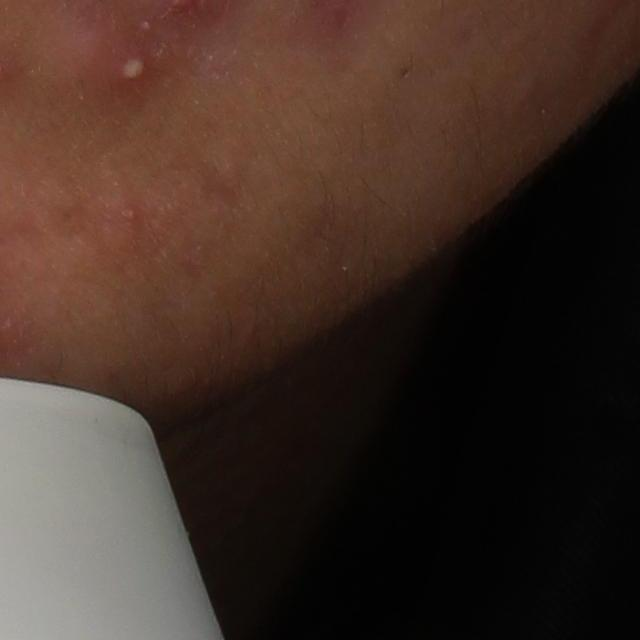pustule: (118, 50, 151, 83)
